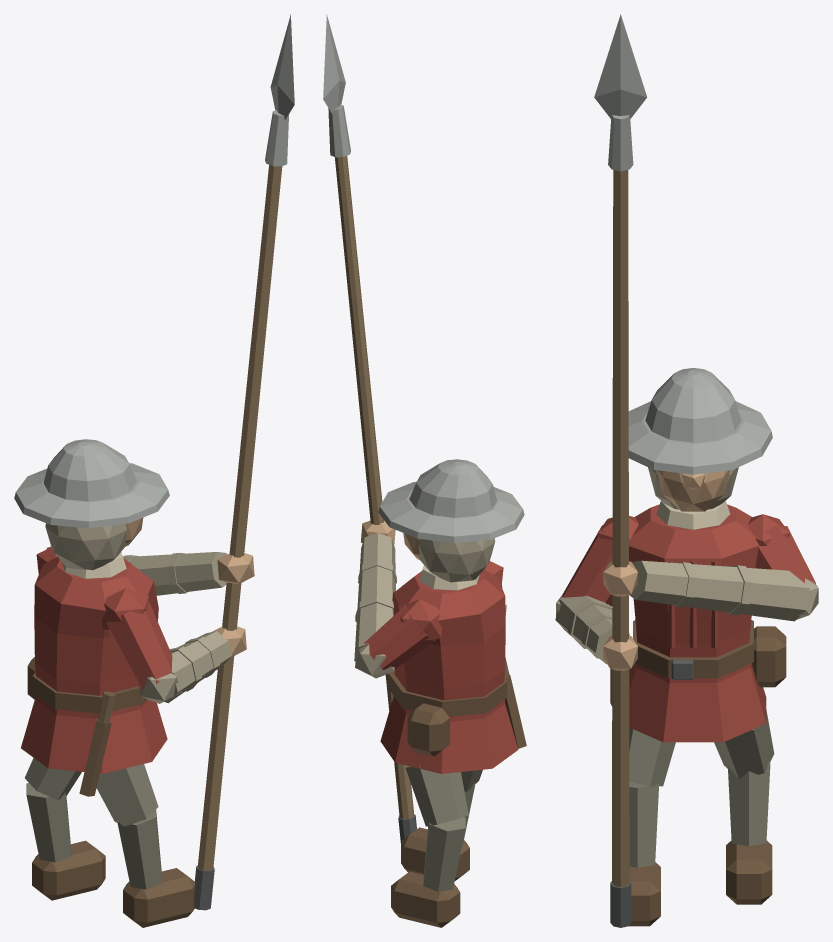
The model's file is infantry_spear.glb.
The picture shows the model from 3 angles, left to right: view 1: azimuth 30°, elevation 25°; view 2: azimuth 150°, elevation 25°; view 3: azimuth 270°, elevation 25°; orthographic projection. The views are drawn at different scales.
Parts seen in each view (by area): view 1: infantry_spear_team_cloth, infantry_spear_steel, infantry_spear_oak, infantry_spear_leather, infantry_spear_padded_linen, infantry_spear_hose, infantry_spear_skin, infantry_spear_iron, infantry_spear_linen; view 2: infantry_spear_team_cloth, infantry_spear_steel, infantry_spear_leather, infantry_spear_padded_linen, infantry_spear_oak, infantry_spear_hose, infantry_spear_skin, infantry_spear_linen; view 3: infantry_spear_team_cloth, infantry_spear_steel, infantry_spear_padded_linen, infantry_spear_oak, infantry_spear_hose, infantry_spear_leather, infantry_spear_skin, infantry_spear_iron, infantry_spear_linen.
Part boxes in pixels (x1,y1,x2,y2): infantry_spear_team_cloth: [21, 546, 172, 773]; infantry_spear_steel: [14, 14, 294, 528]; infantry_spear_oak: [197, 165, 282, 870]; infantry_spear_leather: [27, 657, 195, 927]; infantry_spear_padded_linen: [45, 523, 231, 703]; infantry_spear_hose: [25, 758, 161, 889]; infantry_spear_skin: [125, 517, 254, 656]; infantry_spear_iron: [194, 865, 214, 910]; infantry_spear_linen: [62, 552, 126, 578]; infantry_spear_team_cloth: [363, 561, 518, 773]; infantry_spear_steel: [323, 14, 524, 542]; infantry_spear_leather: [389, 671, 526, 927]; infantry_spear_padded_linen: [354, 533, 506, 678]; infantry_spear_oak: [335, 156, 414, 819]; infantry_spear_hose: [405, 765, 482, 891]; infantry_spear_skin: [361, 520, 420, 559]; infantry_spear_linen: [419, 565, 479, 590]; infantry_spear_team_cloth: [562, 504, 815, 742]; infantry_spear_steel: [594, 14, 772, 474]; infantry_spear_padded_linen: [555, 467, 818, 663]; infantry_spear_oak: [612, 170, 629, 887]; infantry_spear_hose: [629, 706, 774, 867]; infantry_spear_leather: [610, 620, 786, 926]; infantry_spear_skin: [603, 470, 730, 670]; infantry_spear_iron: [610, 659, 693, 927]; infantry_spear_linen: [656, 500, 730, 529].
Bounding box in the file's own units: 0.9624 × 3.45 × 0.8512.
